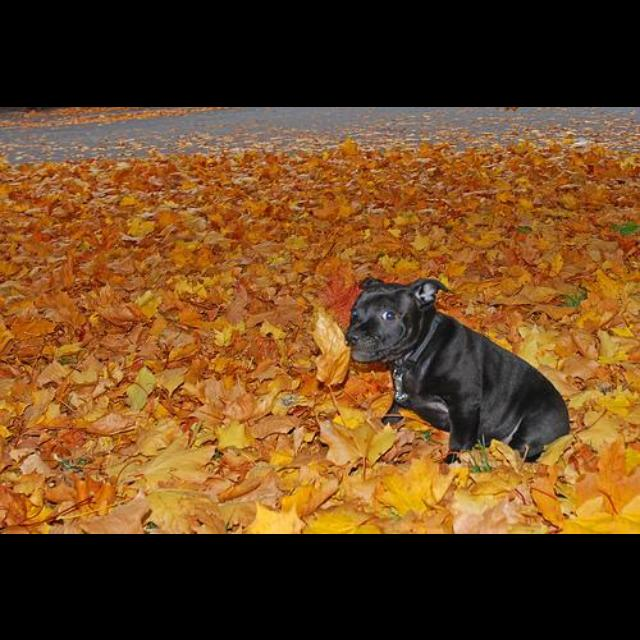staffford: (345, 275, 572, 464)
